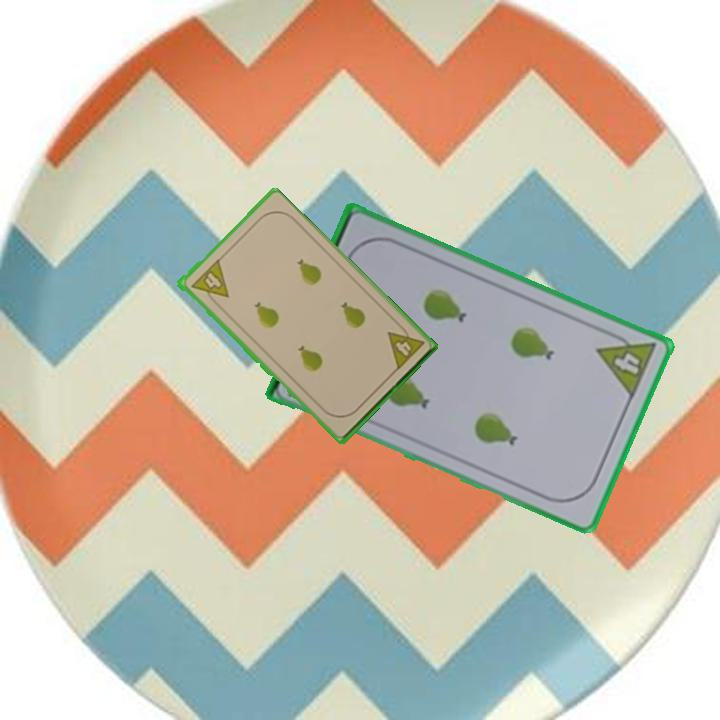4p: (593, 325, 659, 402), (383, 319, 427, 373), (187, 257, 231, 309)
